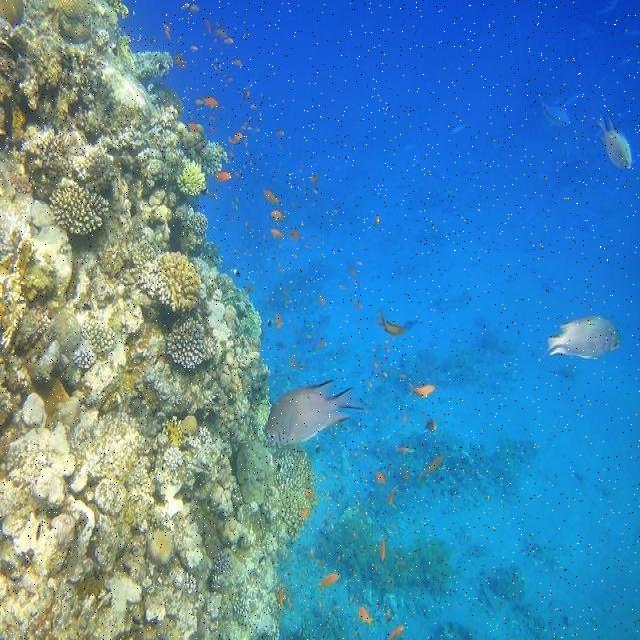fish: (266, 379, 366, 443), (544, 315, 620, 360), (596, 113, 632, 172), (394, 419, 437, 453), (536, 98, 570, 127), (204, 19, 235, 43), (376, 311, 405, 335), (406, 382, 436, 402), (316, 572, 342, 590), (358, 606, 375, 628), (422, 456, 442, 474), (263, 189, 282, 207), (195, 96, 220, 109), (387, 625, 406, 639), (374, 469, 388, 487), (180, 2, 200, 12), (228, 132, 244, 144), (162, 22, 171, 43), (213, 171, 231, 181), (270, 227, 284, 238), (308, 175, 321, 186), (270, 211, 285, 219), (222, 74, 235, 83), (274, 314, 282, 328), (231, 58, 243, 67), (188, 43, 199, 51), (380, 540, 384, 561)
reefs: (1, 0, 318, 638)
